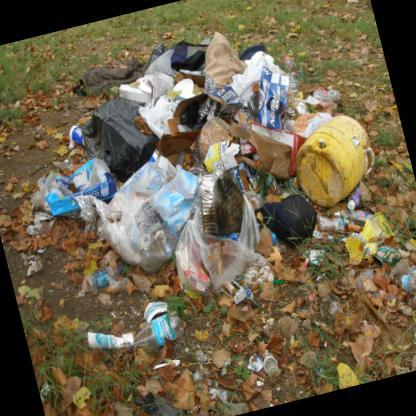Garbage: (114, 56, 326, 280), (154, 171, 268, 298), (98, 146, 211, 259), (73, 156, 215, 244), (86, 92, 172, 178), (236, 34, 301, 137), (337, 200, 411, 278), (168, 26, 245, 88), (198, 58, 248, 134), (130, 306, 194, 360), (81, 312, 139, 360), (122, 67, 170, 113), (63, 118, 95, 146)
